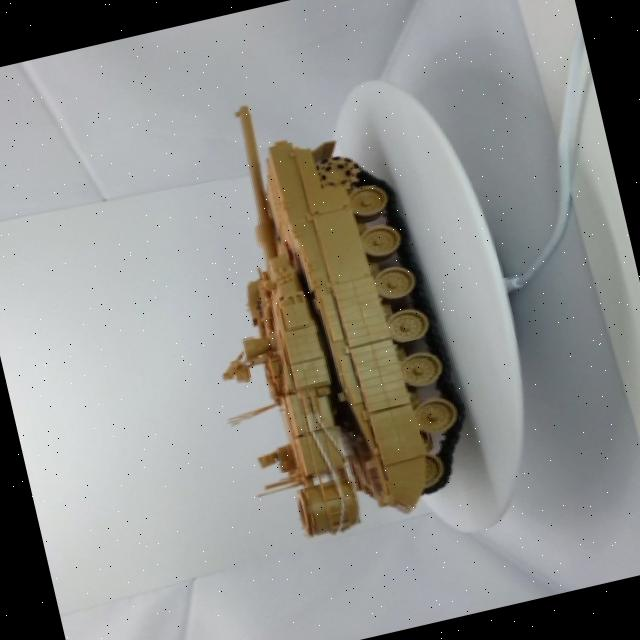korea tank: (138, 48, 500, 566)
